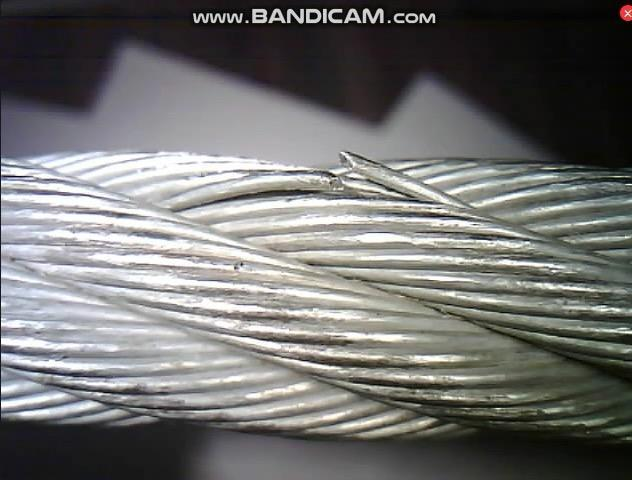break: (288, 145, 385, 210)
